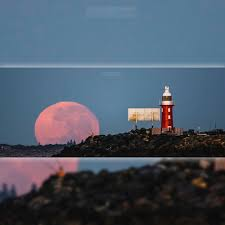moon: (34, 100, 101, 146)
